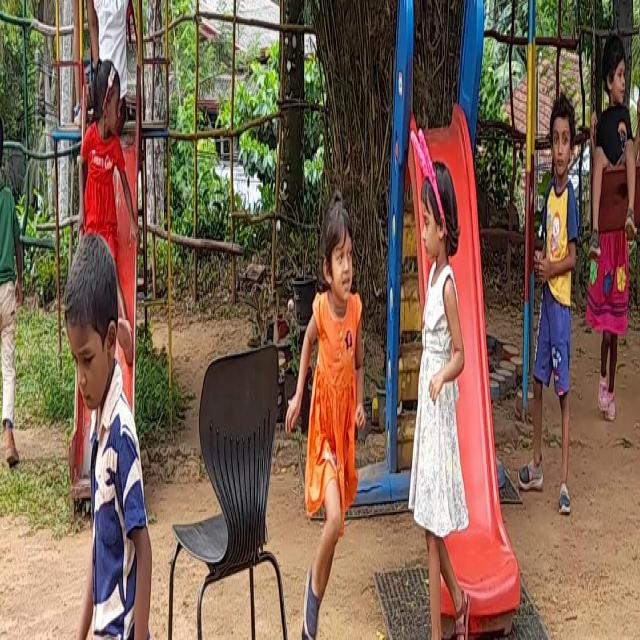child: (45, 225, 166, 640), (396, 151, 475, 640), (292, 171, 362, 640), (512, 82, 580, 522), (594, 22, 640, 393), (0, 104, 23, 479), (76, 55, 122, 236)
